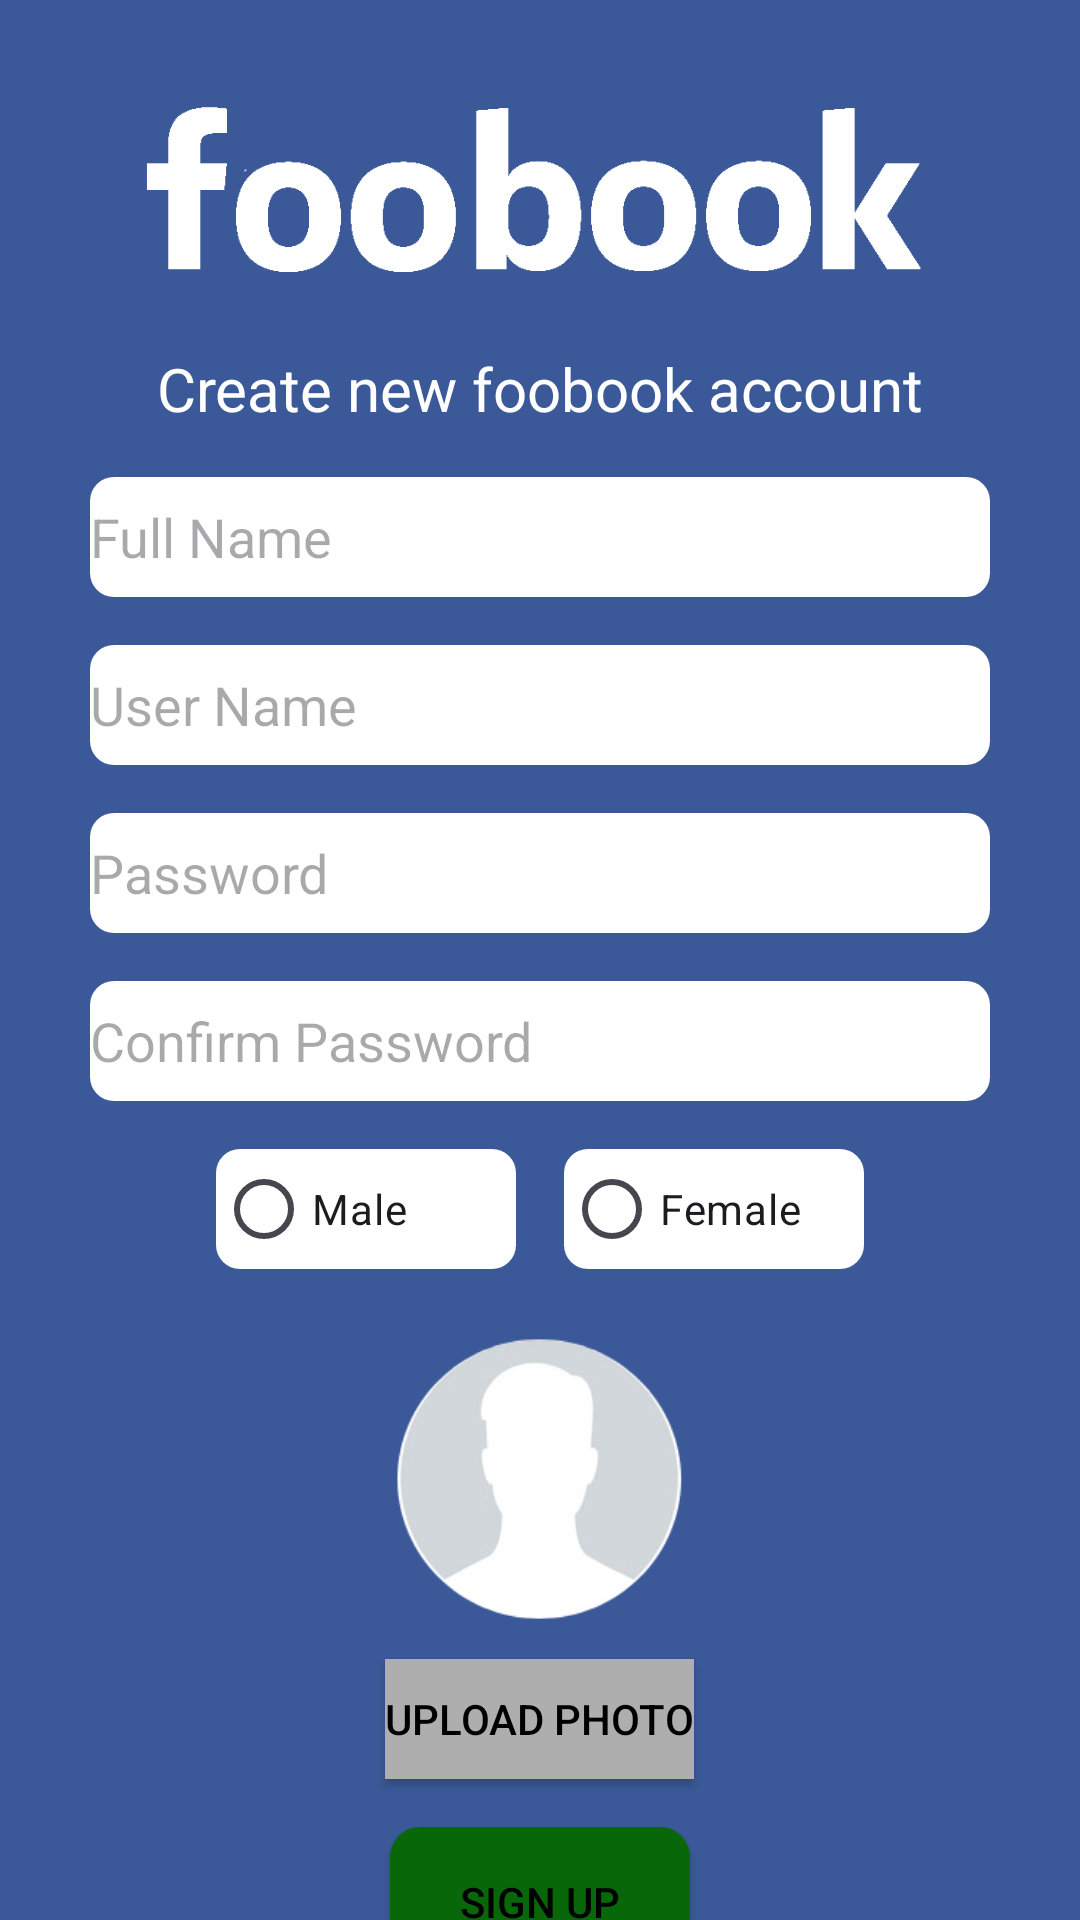

Named icons in this screenshot (1080px x 1920px) and their bounding boxes, [x1=x1, y1=y1, x2=x2, y2=y2]:
profile: [x1=397, y1=1339, x2=682, y2=1619]
